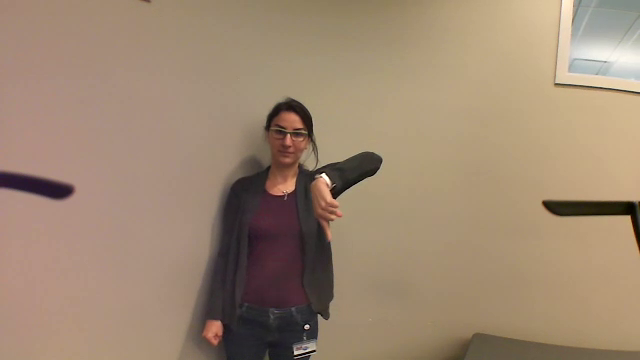down: (302, 162, 351, 249)
